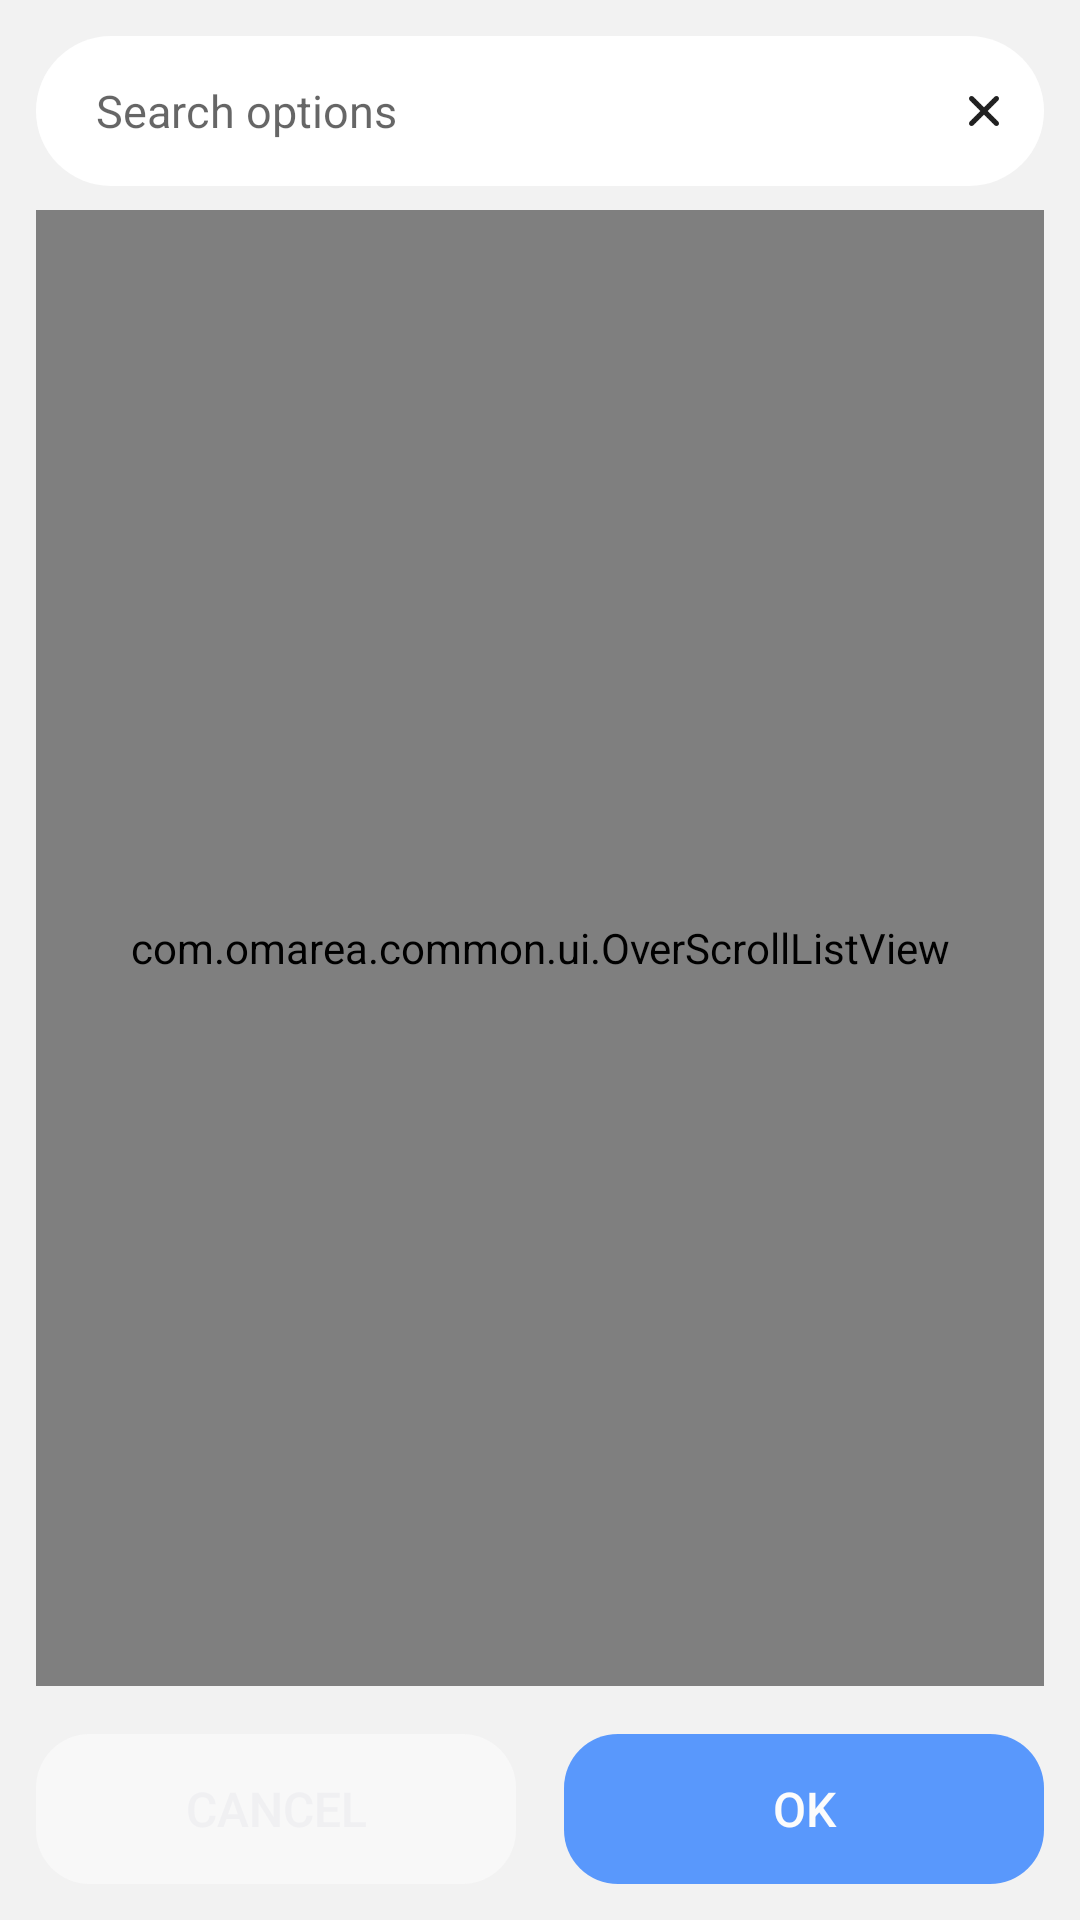

Screen size 1080w x 1920h. Icon name, then its box in pixels as (x1, y1, x2, y2):
search clear: (969, 96, 999, 126)
